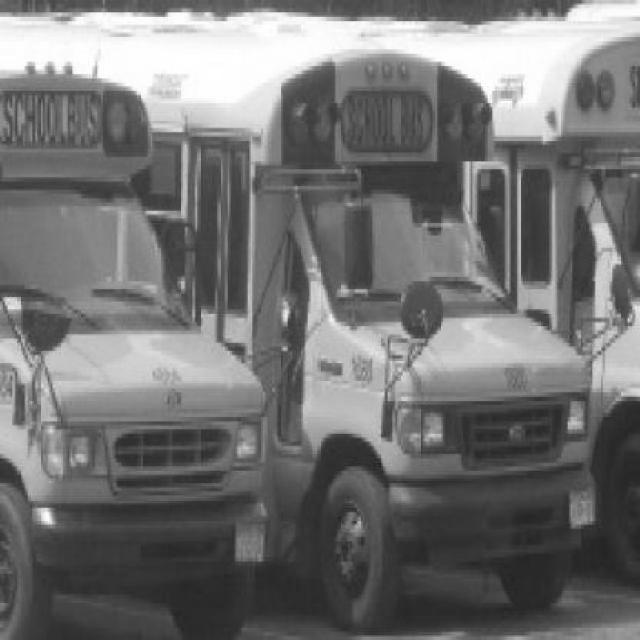Bus- Small: (0, 30, 596, 634), (0, 57, 275, 640)
